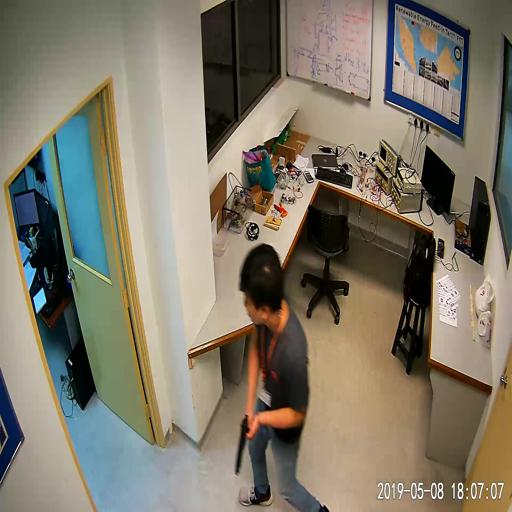pistol: (234, 413, 250, 475)
